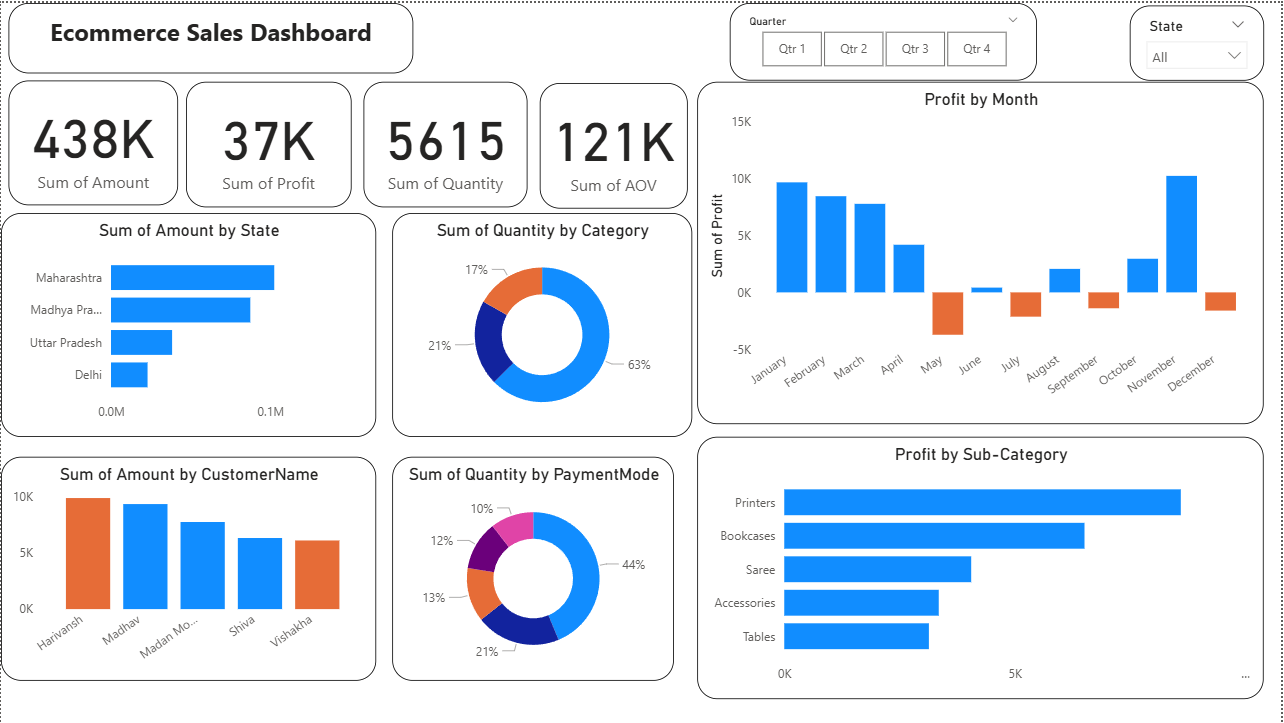

The page's visual inventory and layout, read from the dashboard file:
{"tool":"powerbi","page":{"name":"Page 1","canvas":[1280,720],"ordinal":0},"visuals":[{"type":"textbox","box":[7.3,0,405.2,70.3],"z":0},{"type":"columnChart","title":"Profit by Month","fields":{"Category":["Orders.Order Date.Variation.Date Hierarchy.Month"],"Y":["Details.Profit"]},"box":[696.7,78.2,566.8,342.4],"z":1},{"type":"clusteredBarChart","title":"Profit by Sub-Category","fields":{"Category":["Details.Sub-Category"],"Y":["Details.Profit"]},"box":[696.7,433.9,566.8,262.7],"z":2},{"type":"donutChart","fields":{"Category":["Details.Category"],"Y":["Details.Quantity"]},"box":[391.1,209.6,299.6,224.4],"z":3},{"type":"donutChart","fields":{"Y":["Details.Quantity"],"Category":["Details.PaymentMode"]},"box":[391.1,453.1,281.9,224.4],"z":4},{"type":"card","fields":{"Values":["Details.Amount"]},"box":[7.3,77.6,169.7,125],"z":5},{"type":"card","fields":{"Values":["Details.Profit"]},"box":[184.5,78.2,165.3,125.5],"z":6},{"type":"card","fields":{"Values":["Details.Quantity"]},"box":[363.1,78.2,163.8,125.5],"z":7},{"type":"card","fields":{"Values":["Details.AOV"]},"box":[538.7,79.7,147.6,125.5],"z":8},{"type":"clusteredBarChart","fields":{"Category":["Orders.State"],"Y":["Details.Amount"]},"box":[0,209.6,374.9,224.4],"z":9},{"type":"columnChart","fields":{"Category":["Orders.CustomerName"],"Y":["Details.Amount"]},"box":[0,453.1,374.9,224.4],"z":10},{"type":"slicer","fields":{"Values":["Orders.Order Date.Variation.Date Hierarchy.Quarter"]},"box":[729.2,0,307.5,77.6],"z":11},{"type":"slicer","fields":{"Values":["Orders.State"]},"box":[1128.9,2.7,134.2,74.8],"z":12}]}

Visuals, with their boxes in screenshot pixels (x1, y1, x2, y2), scaled from the page's 1280x720 canvas onto the 1284x723 screenshot:
textbox: (7,0,414,71)
"Profit by Month" columnChart: (699,79,1267,422)
"Profit by Sub-Category" clusteredBarChart: (699,436,1267,700)
donutChart - Details.Category x Details.Quantity: (392,210,693,436)
donutChart - Details.Quantity x Details.PaymentMode: (392,455,675,680)
card - Details.Amount: (7,78,178,203)
card - Details.Profit: (185,79,351,205)
card - Details.Quantity: (364,79,529,205)
card - Details.AOV: (540,80,688,206)
clusteredBarChart - Orders.State x Details.Amount: (0,210,376,436)
columnChart - Orders.CustomerName x Details.Amount: (0,455,376,680)
slicer - Orders.Order Date.Variation.Date Hierarchy.Quarter: (731,0,1040,78)
slicer - Orders.State: (1132,3,1267,78)
